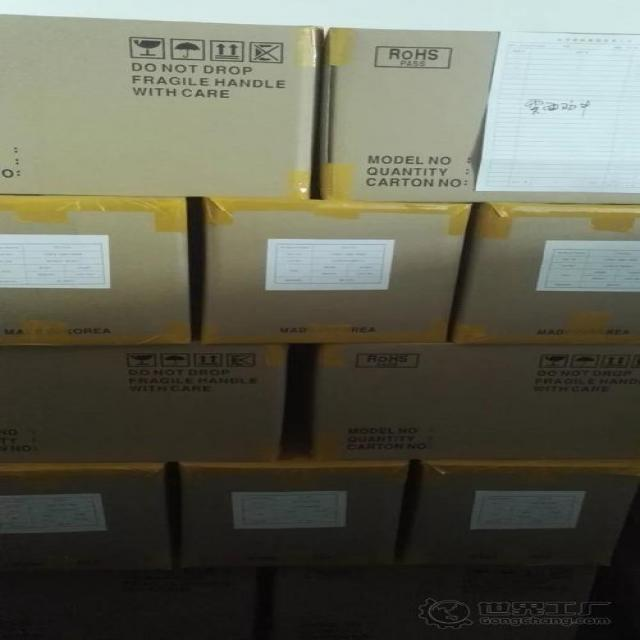box: (0, 13, 325, 205), (300, 340, 640, 470), (200, 194, 466, 346), (0, 338, 306, 467), (318, 25, 507, 204), (0, 192, 197, 346), (440, 190, 640, 340), (162, 462, 430, 572), (412, 455, 637, 574), (0, 461, 171, 578)
